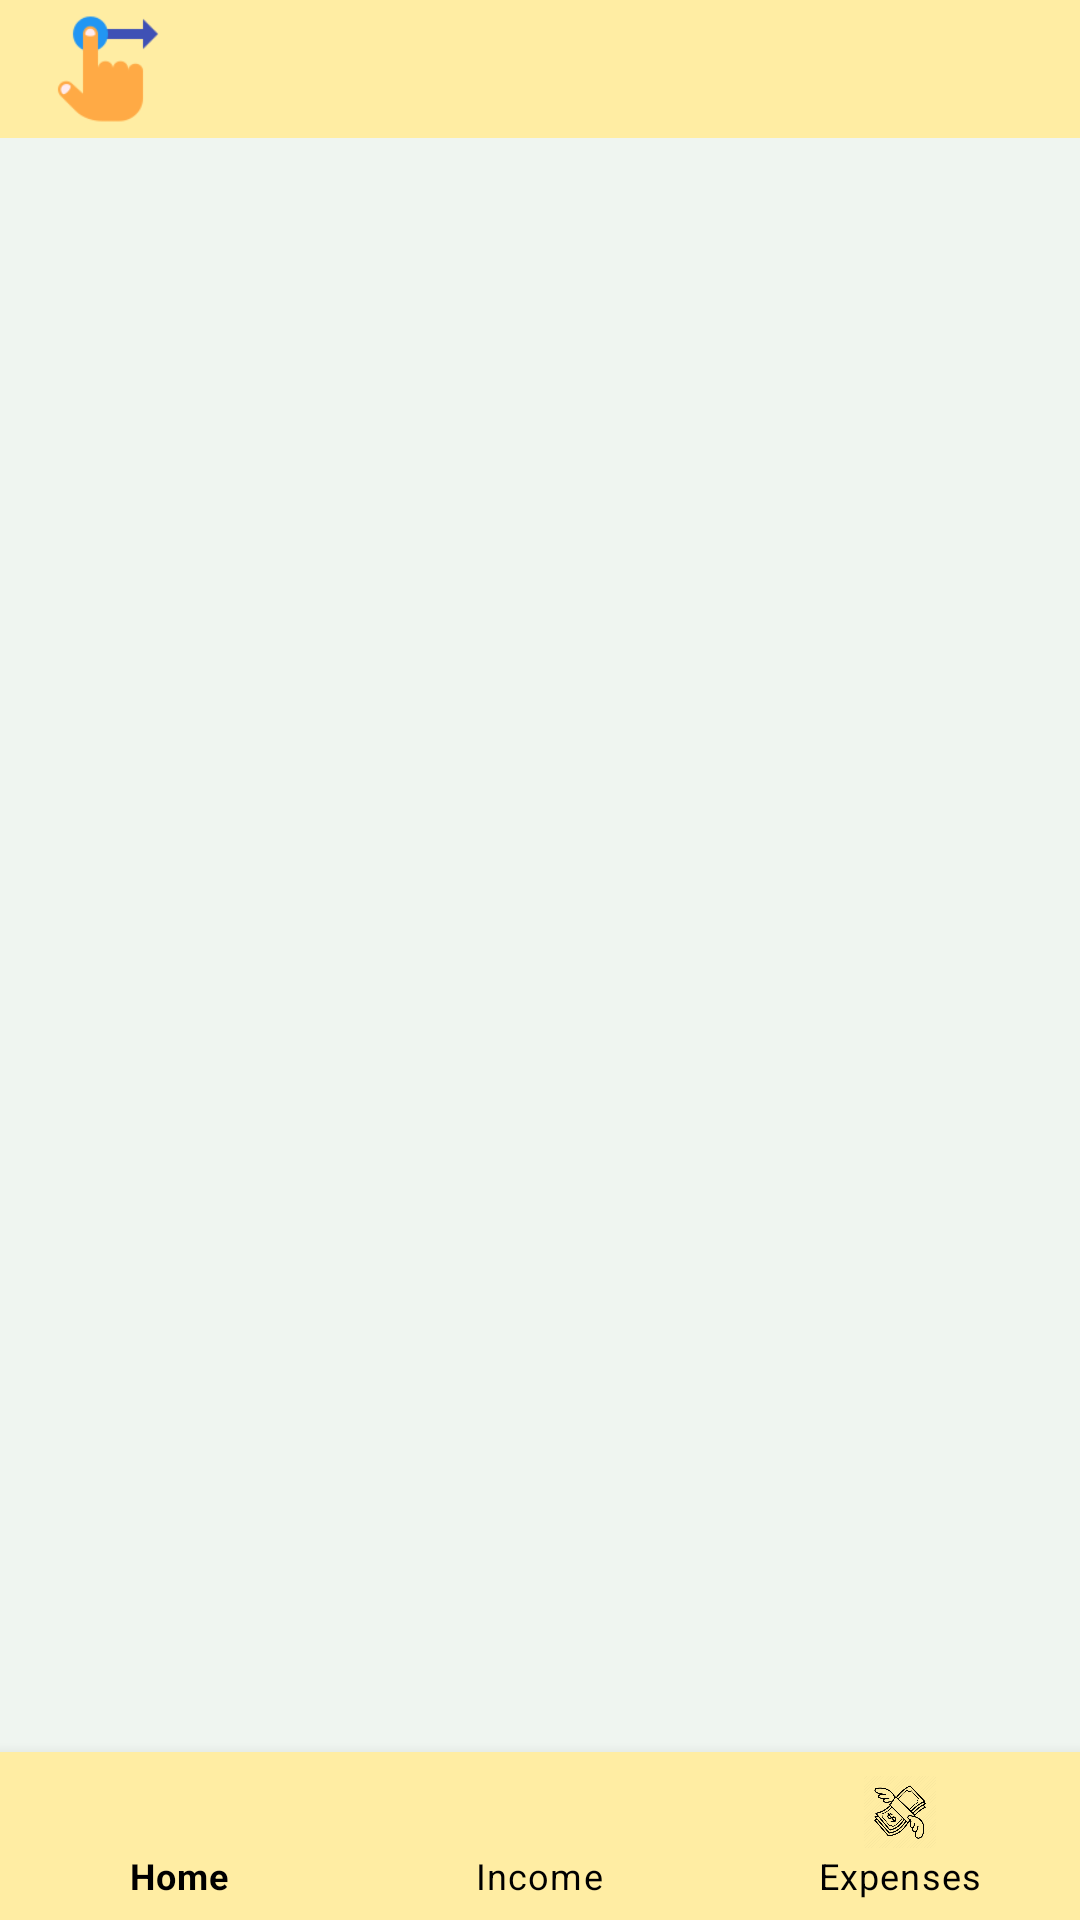

Icon bounding boxes for this 1080px x 1920px phone screenshot, format (x1, y1, x2, y2):
hand: (58, 16, 158, 122)
